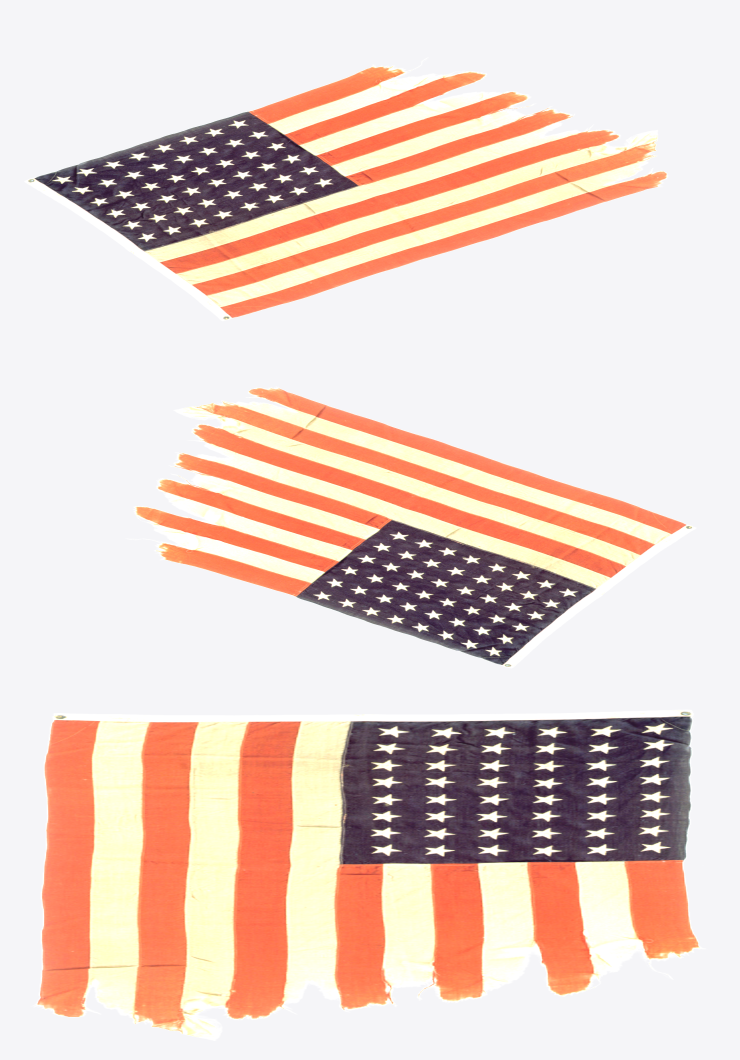
The picture shows the model from 3 angles, top to bottom: view 1: azimuth 30°, elevation 25°; view 2: azimuth 150°, elevation 25°; view 3: azimuth 270°, elevation 25°; orthographic projection. The views are drawn at different scales.
Parts seen in each view (by area): view 1: gobi-flag-colour; view 2: gobi-flag-colour; view 3: gobi-flag-colour.
Boxes of the visible parts, bbox=[...] form: gobi-flag-colour: bbox=[24, 57, 668, 321]; gobi-flag-colour: bbox=[125, 386, 696, 668]; gobi-flag-colour: bbox=[31, 709, 705, 1040].
Bounding box in the file's own units: 8.57 × 0.633 × 6.3.
Materials: 1 (1 with a texture image).
